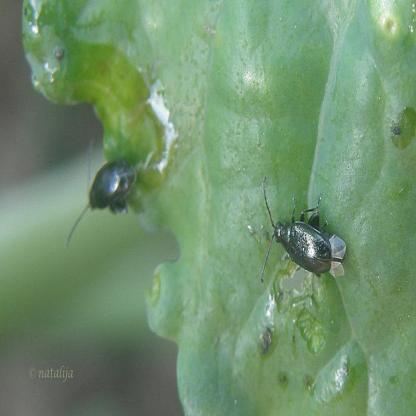beetle: (260, 175, 355, 296), (78, 144, 147, 228)
